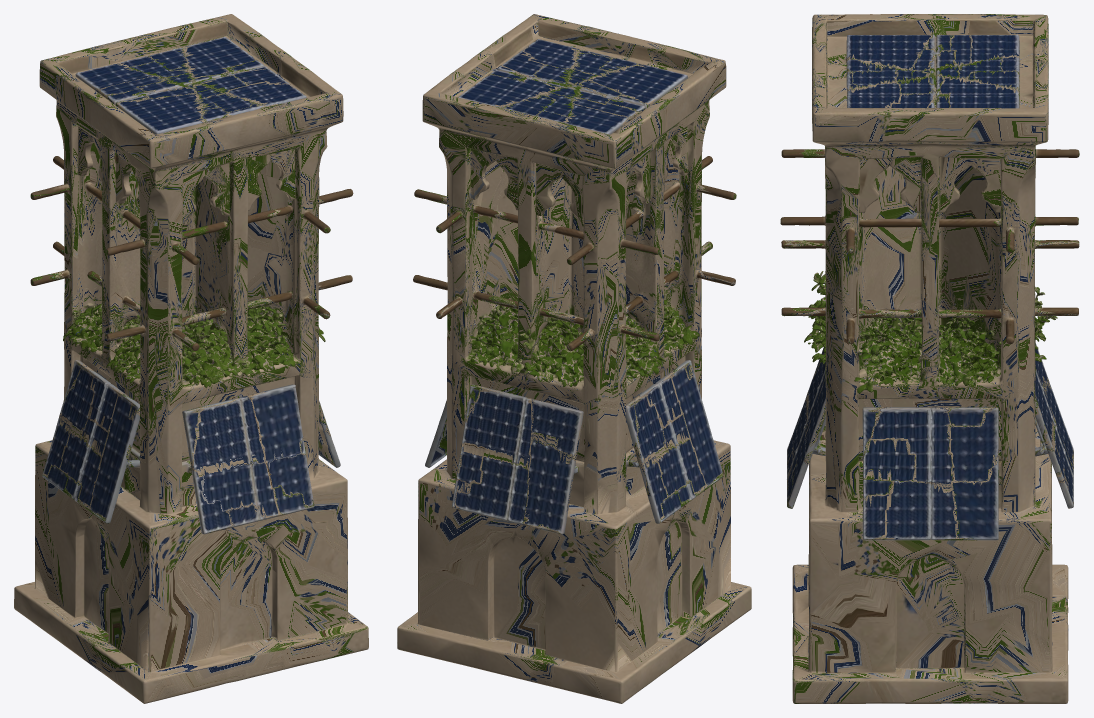
Rendered from windtower.glb.
3 views of the same model, side by side, from view 1: azimuth 30°, elevation 25°; view 2: azimuth 150°, elevation 25°; view 3: azimuth 270°, elevation 25° (orthographic). The views are drawn at different scales.
Size of the model in its own units: 0.883 by 1.9 by 0.8828.
1 material, 1 textured.
